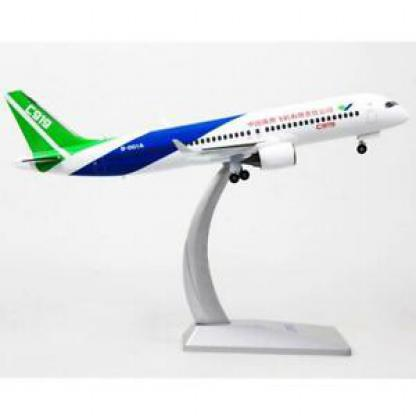CIV_Plane: (0, 82, 408, 181)
